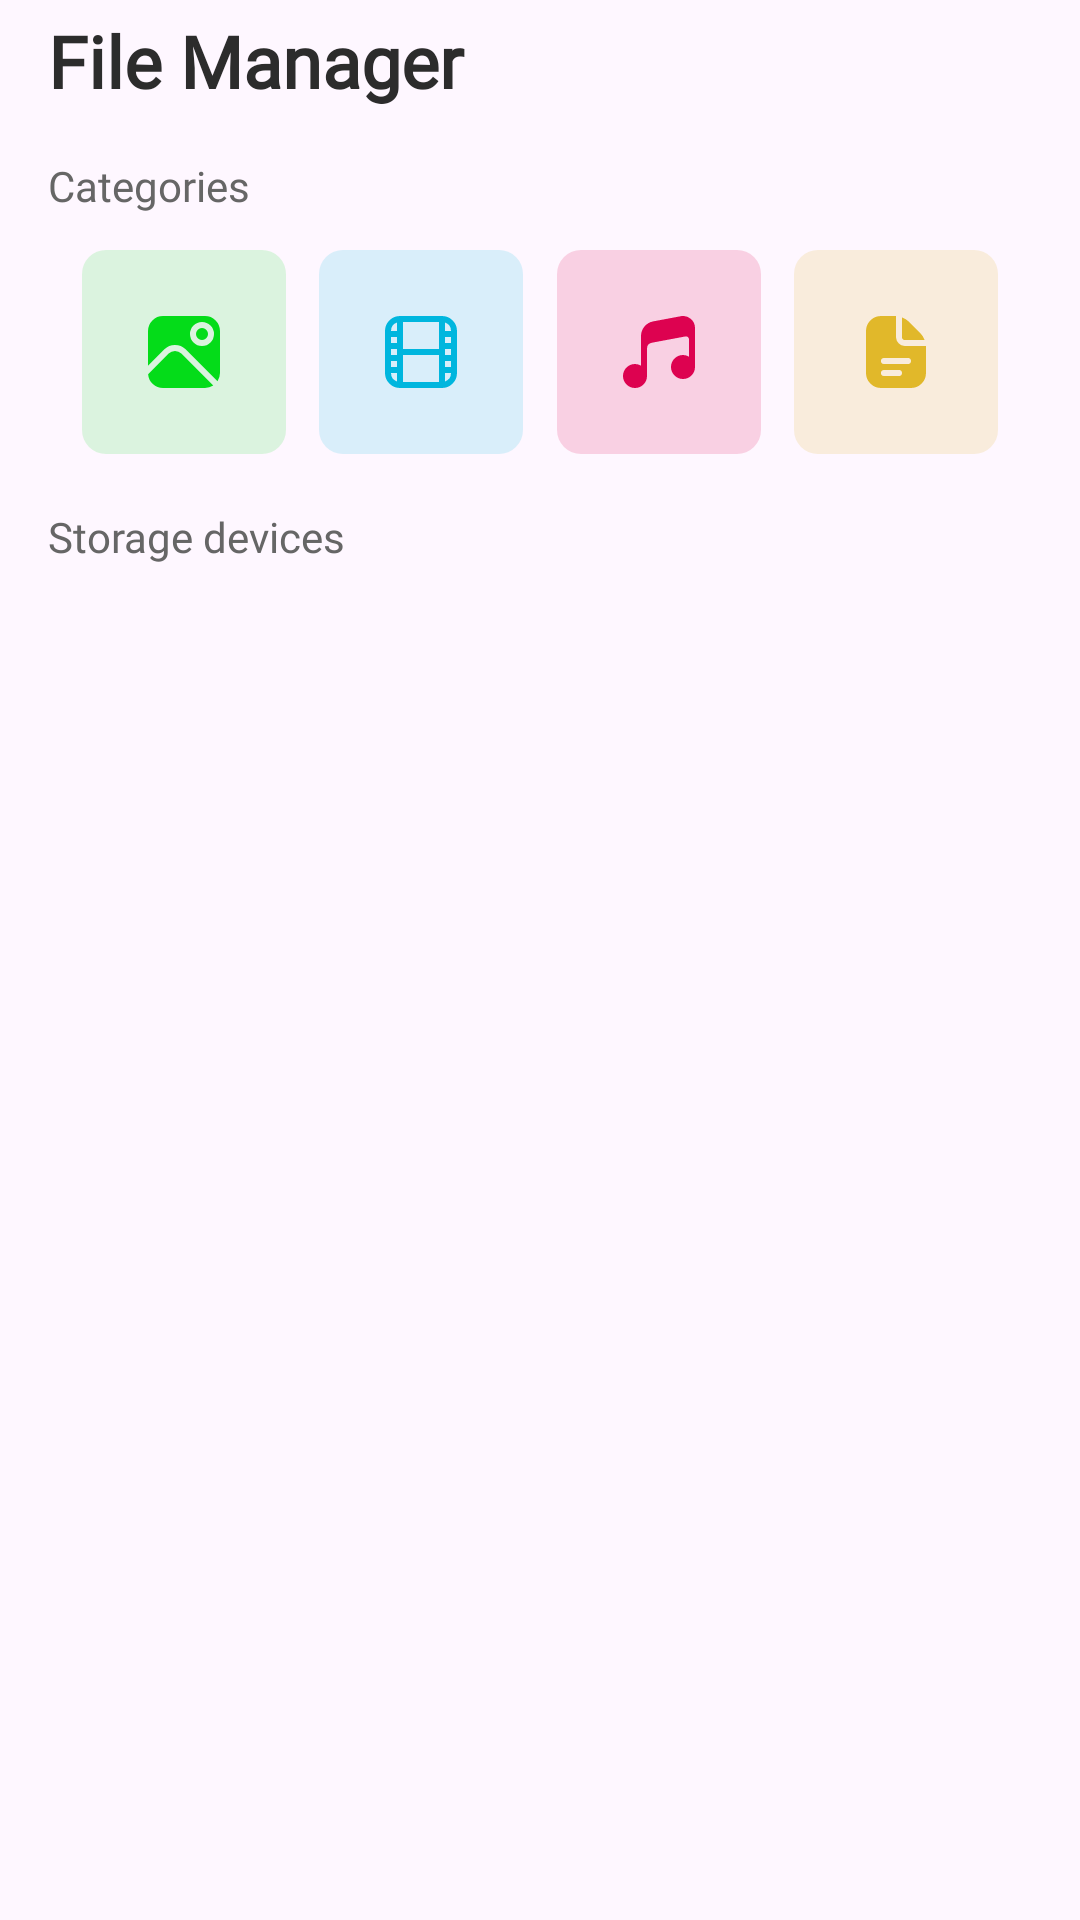

Locate icon controls on the screen. Image size 1080 x 1920, boxes as (x1, y1, x2, y2).
Documents: (794, 250, 998, 454)
Images: (82, 250, 286, 454)
Musics: (557, 250, 761, 454)
Videos: (319, 250, 523, 454)
